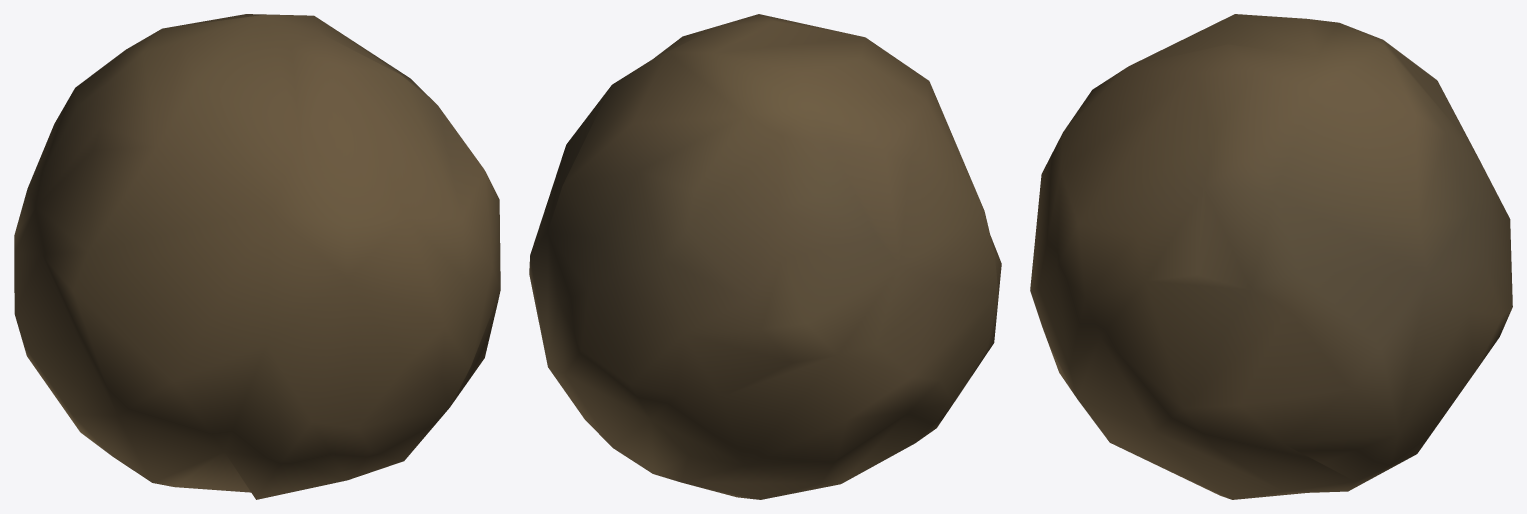
File: space-asteroids-asteroid_v2.glb
3 views of the same model, side by side, from view 1: azimuth 30°, elevation 25°; view 2: azimuth 150°, elevation 25°; view 3: azimuth 270°, elevation 25° (orthographic). The views are drawn at different scales.
Parts seen in each view (by area): view 1: Asteroid_v2; view 2: Asteroid_v2; view 3: Asteroid_v2.
Part boxes in pixels (left/top/right/bottom): Asteroid_v2: left=14, top=14, right=500, bottom=499; Asteroid_v2: left=529, top=14, right=1001, bottom=499; Asteroid_v2: left=1030, top=14, right=1512, bottom=499.
Size of the model in its own units: 490 by 500 by 498.
